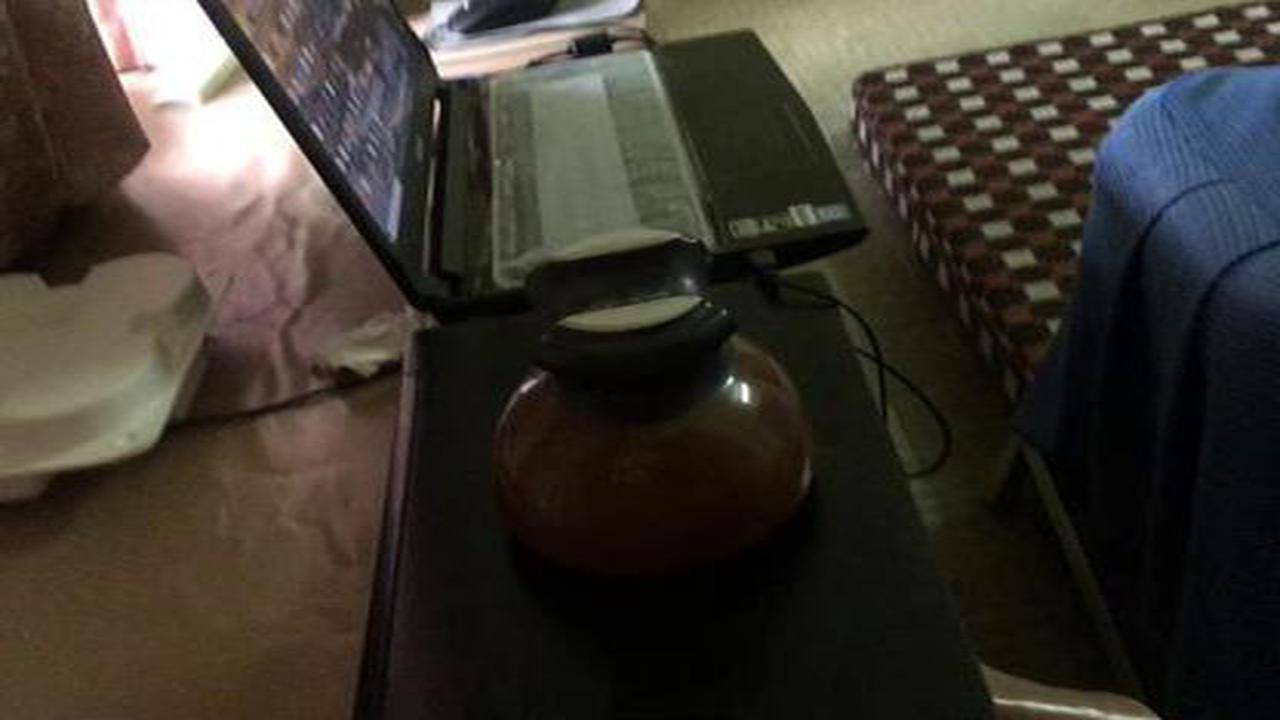insulator_pin: (456, 213, 837, 634)
